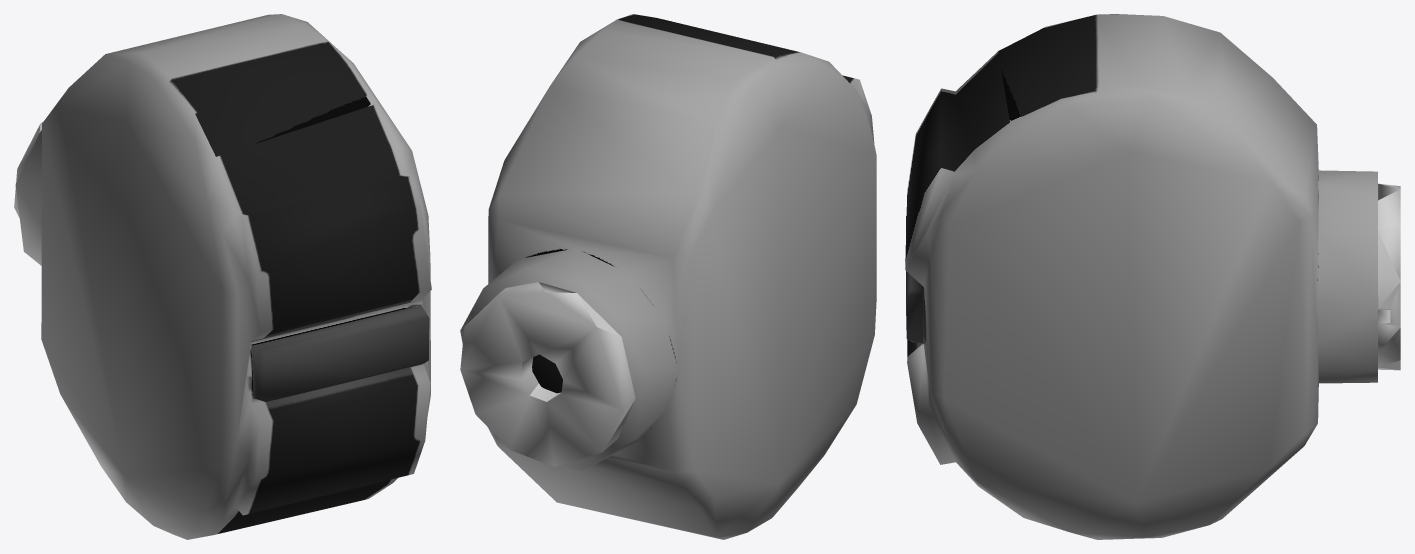
Rendered from l_wrist_roll_link.OBJ.
The picture shows the model from 3 angles, left to right: view 1: azimuth 30°, elevation 25°; view 2: azimuth 150°, elevation 25°; view 3: azimuth 270°, elevation 25°; orthographic projection.
Visible parts, largest first — view 1: /ambf/env/pr2/l_wrist_roll_link_/ambf/env/pr2/l_wrist_roll_link_; view 2: /ambf/env/pr2/l_wrist_roll_link_/ambf/env/pr2/l_wrist_roll_link_; view 3: /ambf/env/pr2/l_wrist_roll_link_/ambf/env/pr2/l_wrist_roll_link_.
Boxes of the visible parts, x1,y1,x2,y2 form: /ambf/env/pr2/l_wrist_roll_link_/ambf/env/pr2/l_wrist_roll_link_: (14, 14, 431, 539); /ambf/env/pr2/l_wrist_roll_link_/ambf/env/pr2/l_wrist_roll_link_: (460, 14, 876, 539); /ambf/env/pr2/l_wrist_roll_link_/ambf/env/pr2/l_wrist_roll_link_: (905, 14, 1400, 539).
Size of the model in its own units: 0.0485 by 0.1019 by 0.1008.
